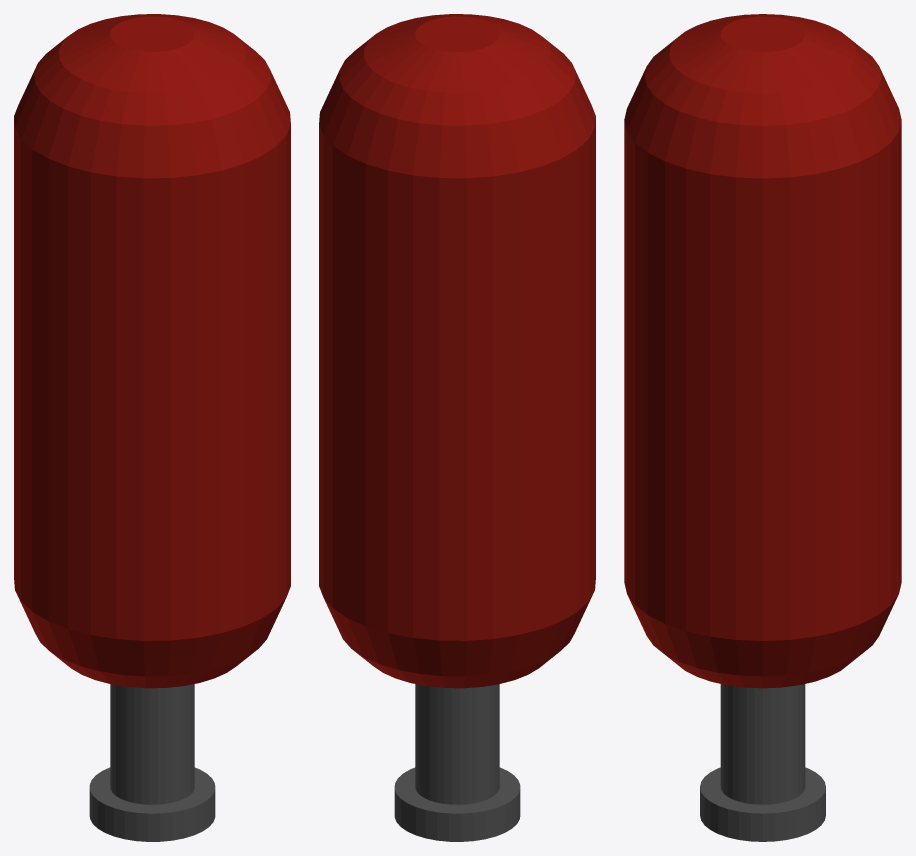
The model's file is practice_target.fbx.
The picture shows the model from 3 angles, left to right: view 1: azimuth 30°, elevation 25°; view 2: azimuth 150°, elevation 25°; view 3: azimuth 270°, elevation 25°; orthographic projection.
Visible parts, largest first — view 1: Cylinder; view 2: Cylinder; view 3: Cylinder.
Part boxes in pixels (left/top/right/bottom): Cylinder: left=14, top=14, right=290, bottom=841; Cylinder: left=319, top=14, right=595, bottom=841; Cylinder: left=624, top=14, right=901, bottom=841.
Size of the model in its own units: 63.39 by 197 by 63.39.
